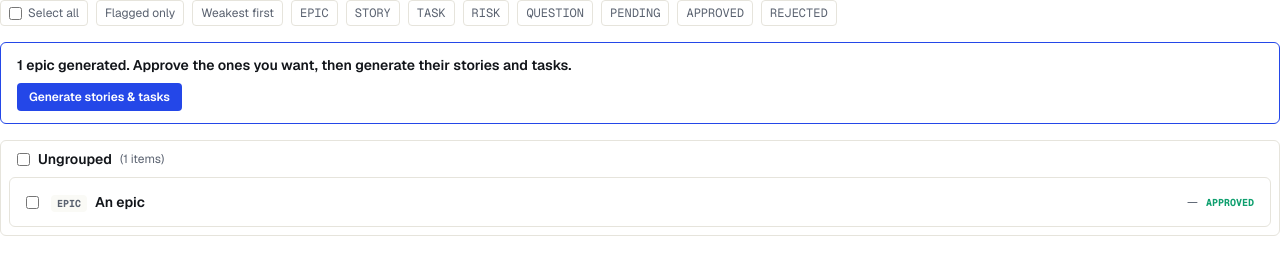
Scenario: ReviewQueue staged-generation banner › shows an error and does not refresh when enqueueing generate-downstream fails
The image size is (1280, 277).
Click the button "Generate stories & tasks" at (99,97), box [17, 83, 182, 111]
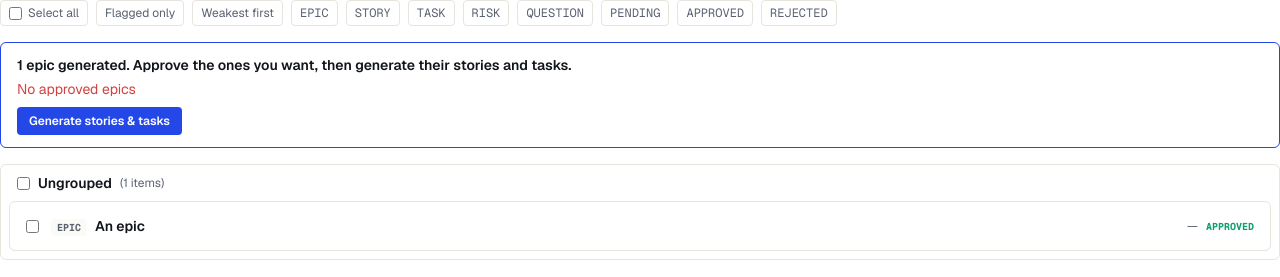
Check: the text "No approved epics" is shown, box [17, 80, 136, 98]
